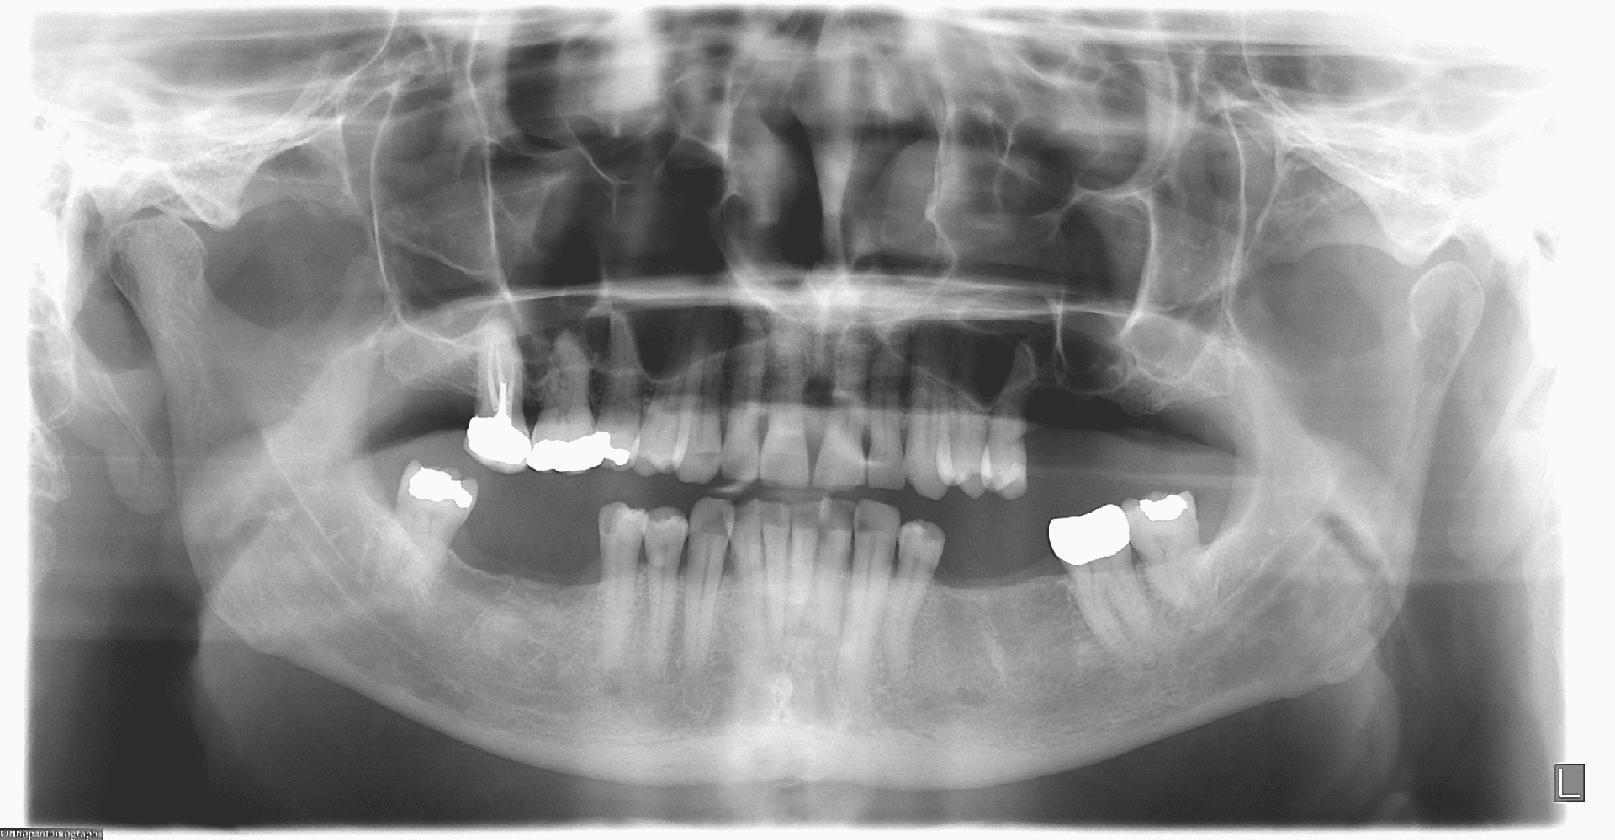Erupted: (387, 459, 483, 615), (1122, 480, 1222, 628)
